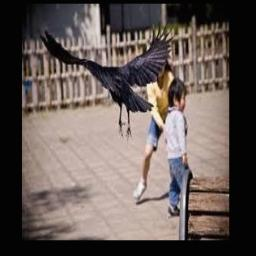Crow: (42, 21, 175, 139)
